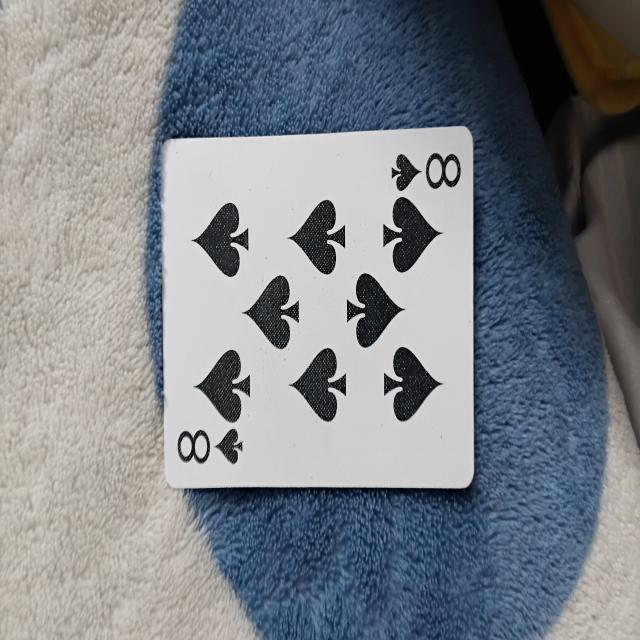8S: (160, 141, 476, 486)
